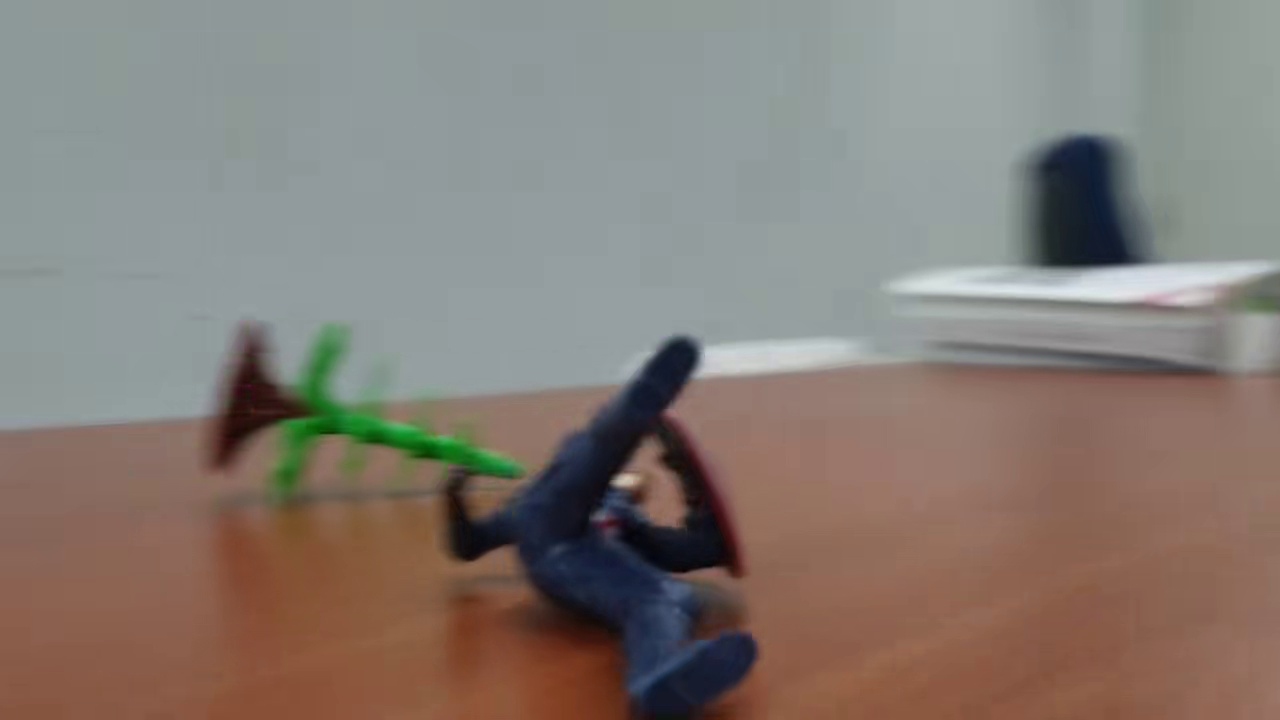people: (432, 331, 757, 709)
tree: (191, 316, 538, 499)
